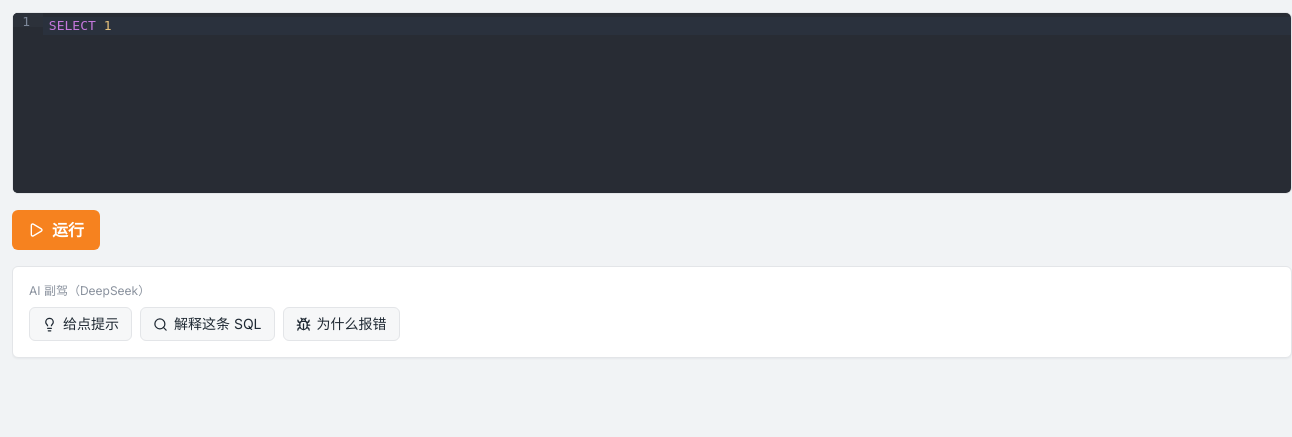
Test: Playground › shows a failing verdict with reason
Click the button "运行" at (56, 230), box [12,210,100,250]
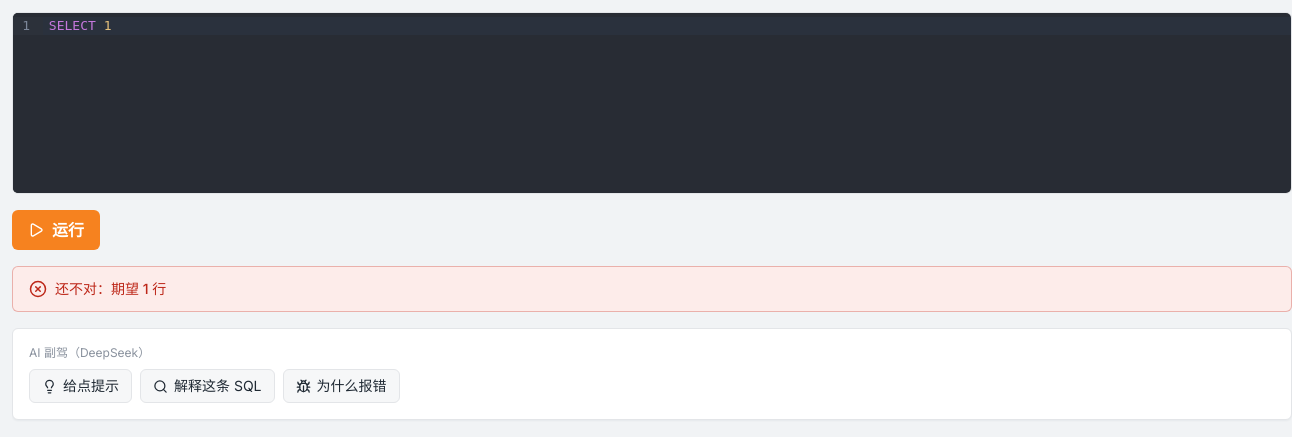
expect the message shows "期望 1 行": met, box [111,280,166,297]
